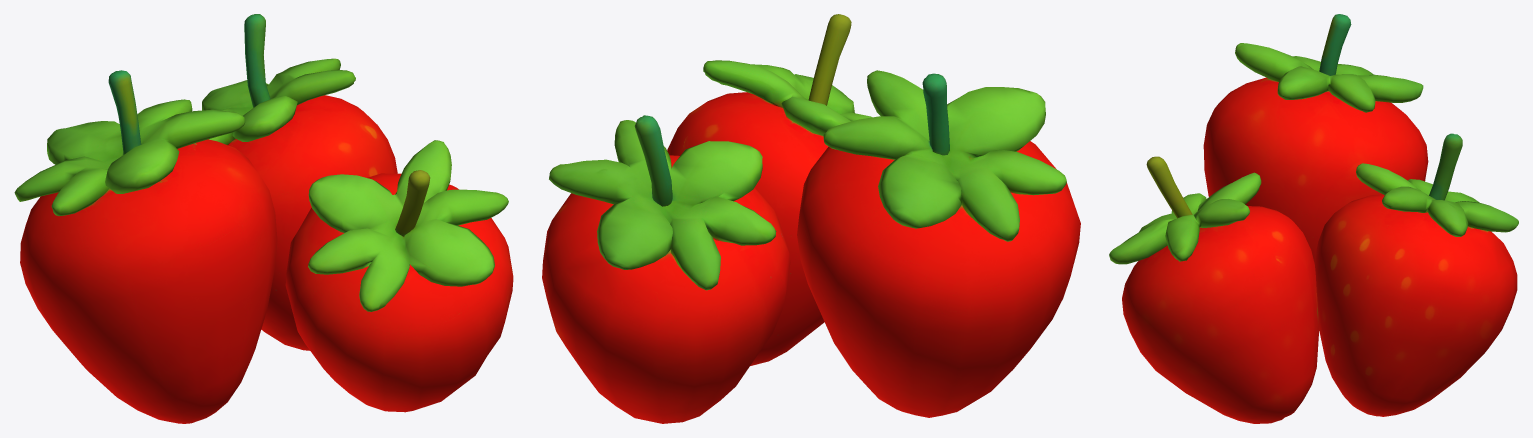
Rendered from item-berry.glb.
The picture shows the model from 3 angles, left to right: view 1: azimuth 30°, elevation 25°; view 2: azimuth 150°, elevation 25°; view 3: azimuth 270°, elevation 25°; orthographic projection. The views are drawn at different scales.
Parts seen in each view (by area): view 1: tripo_node_6d6bb5e4-d52b-4c23-920e-882eac8c4592; view 2: tripo_node_6d6bb5e4-d52b-4c23-920e-882eac8c4592; view 3: tripo_node_6d6bb5e4-d52b-4c23-920e-882eac8c4592.
Boxes of the visible parts, box(x1,y1,x2,y2) form: tripo_node_6d6bb5e4-d52b-4c23-920e-882eac8c4592: box(14, 14, 513, 423); tripo_node_6d6bb5e4-d52b-4c23-920e-882eac8c4592: box(542, 14, 1080, 423); tripo_node_6d6bb5e4-d52b-4c23-920e-882eac8c4592: box(1109, 14, 1518, 423).
Bounding box in the file's own units: 0.9902 × 0.8262 × 0.998.
Materials: 1 (1 with a texture image).
